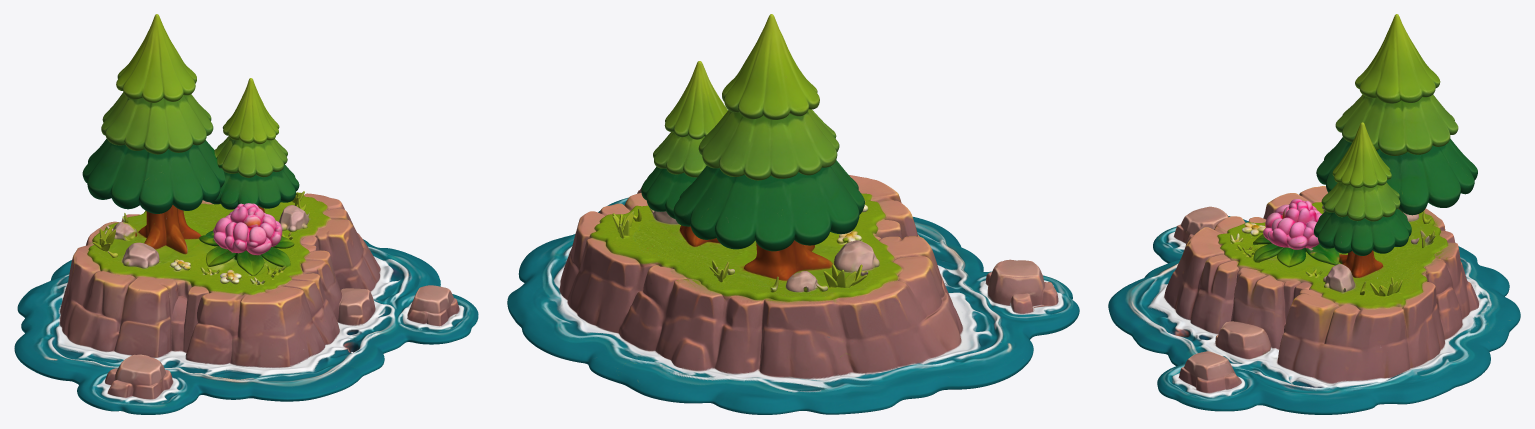
Rendered from stone-stairs-narrow-01.glb.
3 renders of one model, left to right at view 1: azimuth 30°, elevation 25°; view 2: azimuth 150°, elevation 25°; view 3: azimuth 270°, elevation 25°, orthographic. The views are drawn at different scales.
Bounding box in the file's own units: 1.9 × 1.28 × 1.67.
Materials: 1 (1 with a texture image).
